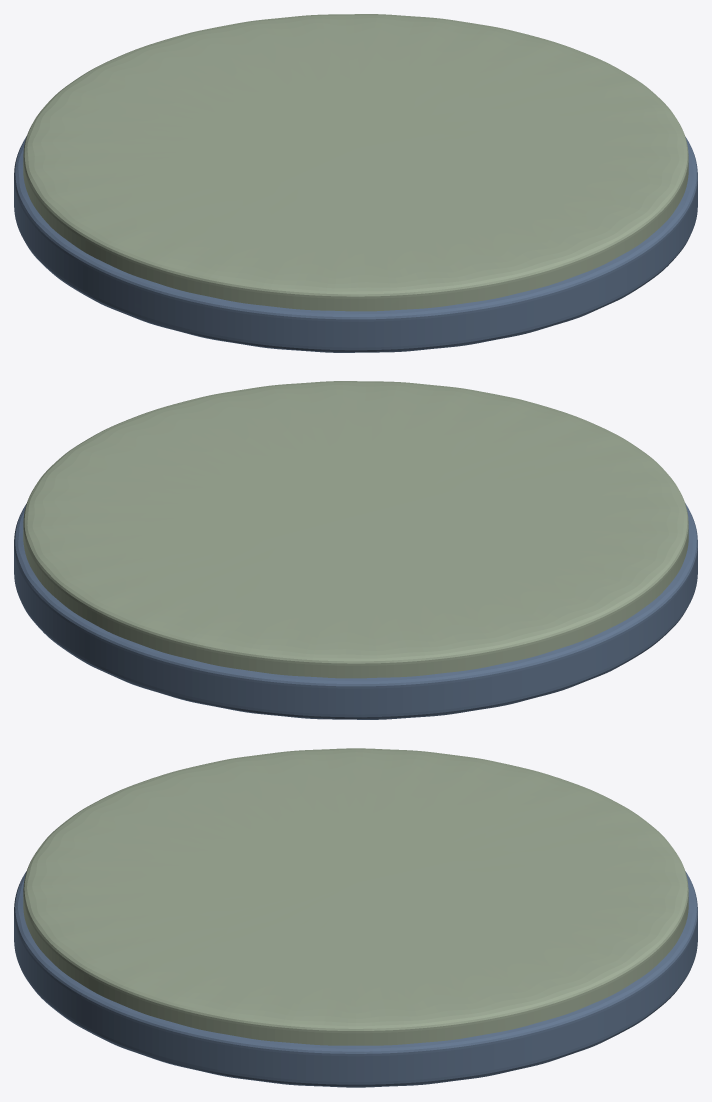
The model's file is stage1.glb.
The picture shows the model from 3 angles, top to bottom: view 1: azimuth 30°, elevation 25°; view 2: azimuth 150°, elevation 25°; view 3: azimuth 270°, elevation 25°; orthographic projection.
Visible parts, largest first — view 1: footing_02, footing; view 2: footing_02, footing; view 3: footing_02, footing.
Boxes of the visible parts, x1,y1,x2,y2 form: footing_02: [23, 14, 688, 311]; footing: [14, 136, 697, 352]; footing_02: [23, 381, 688, 678]; footing: [14, 503, 697, 719]; footing_02: [23, 748, 688, 1045]; footing: [14, 871, 697, 1087].
Bounding box in the file's own units: 10.06 × 1.13 × 10.06.
